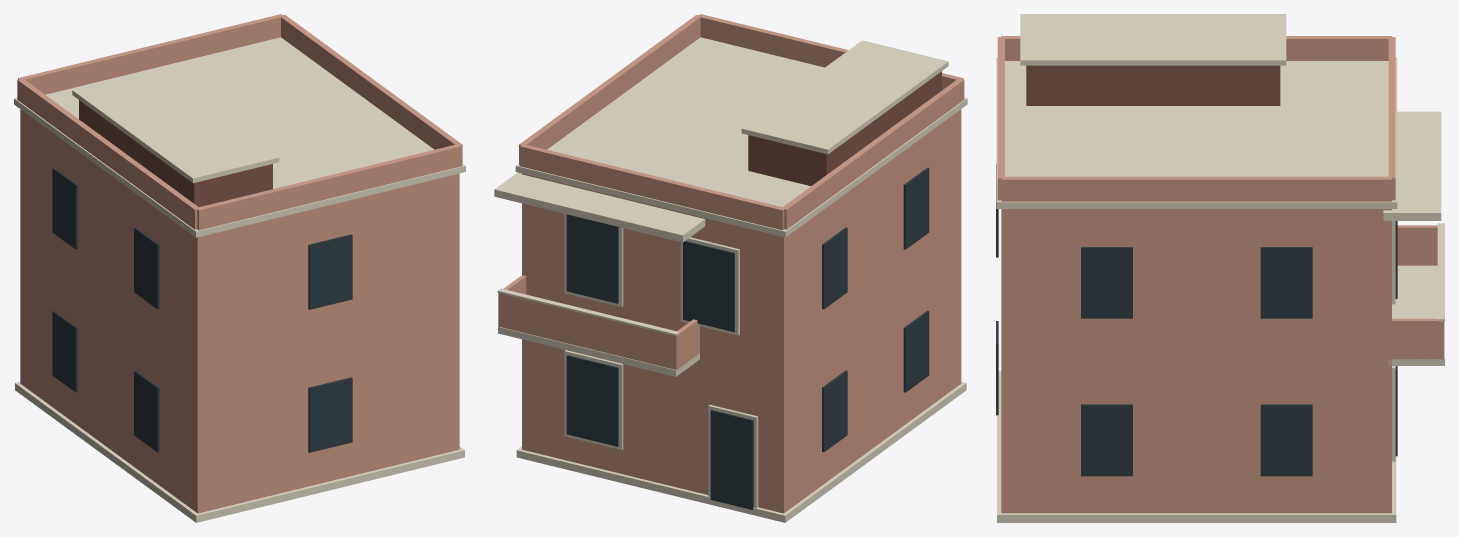
File: KOL_T3_MOD_01.fbx
3 views of the same model, side by side, from view 1: azimuth 30°, elevation 25°; view 2: azimuth 150°, elevation 25°; view 3: azimuth 270°, elevation 25° (orthographic). The views are drawn at different scales.
Visible parts, largest first — view 1: KOL_T3_MOD_01__Body, KOL_T3_MOD_01__Trim, KOL_T3_MOD_01__Dark, KOL_T3_MOD_01__Accent; view 2: KOL_T3_MOD_01__Body, KOL_T3_MOD_01__Trim, KOL_T3_MOD_01__Dark, KOL_T3_MOD_01__Accent; view 3: KOL_T3_MOD_01__Body, KOL_T3_MOD_01__Trim, KOL_T3_MOD_01__Dark, KOL_T3_MOD_01__Accent.
Boxes of the visible parts, x1,y1,x2,y2 form: KOL_T3_MOD_01__Body: (17,14,462,513); KOL_T3_MOD_01__Trim: (14,37,465,522); KOL_T3_MOD_01__Dark: (52,167,352,452); KOL_T3_MOD_01__Accent: (79,100,272,206); KOL_T3_MOD_01__Body: (498,14,964,513); KOL_T3_MOD_01__Trim: (494,37,967,522); KOL_T3_MOD_01__Dark: (566,167,929,509); KOL_T3_MOD_01__Accent: (748,71,941,185); KOL_T3_MOD_01__Body: (997,36,1443,513); KOL_T3_MOD_01__Trim: (996,14,1444,522); KOL_T3_MOD_01__Dark: (996,164,1397,476); KOL_T3_MOD_01__Accent: (1026,65,1280,105).
Bounding box in the file's own units: 23.83 × 28.1 × 31.02.
